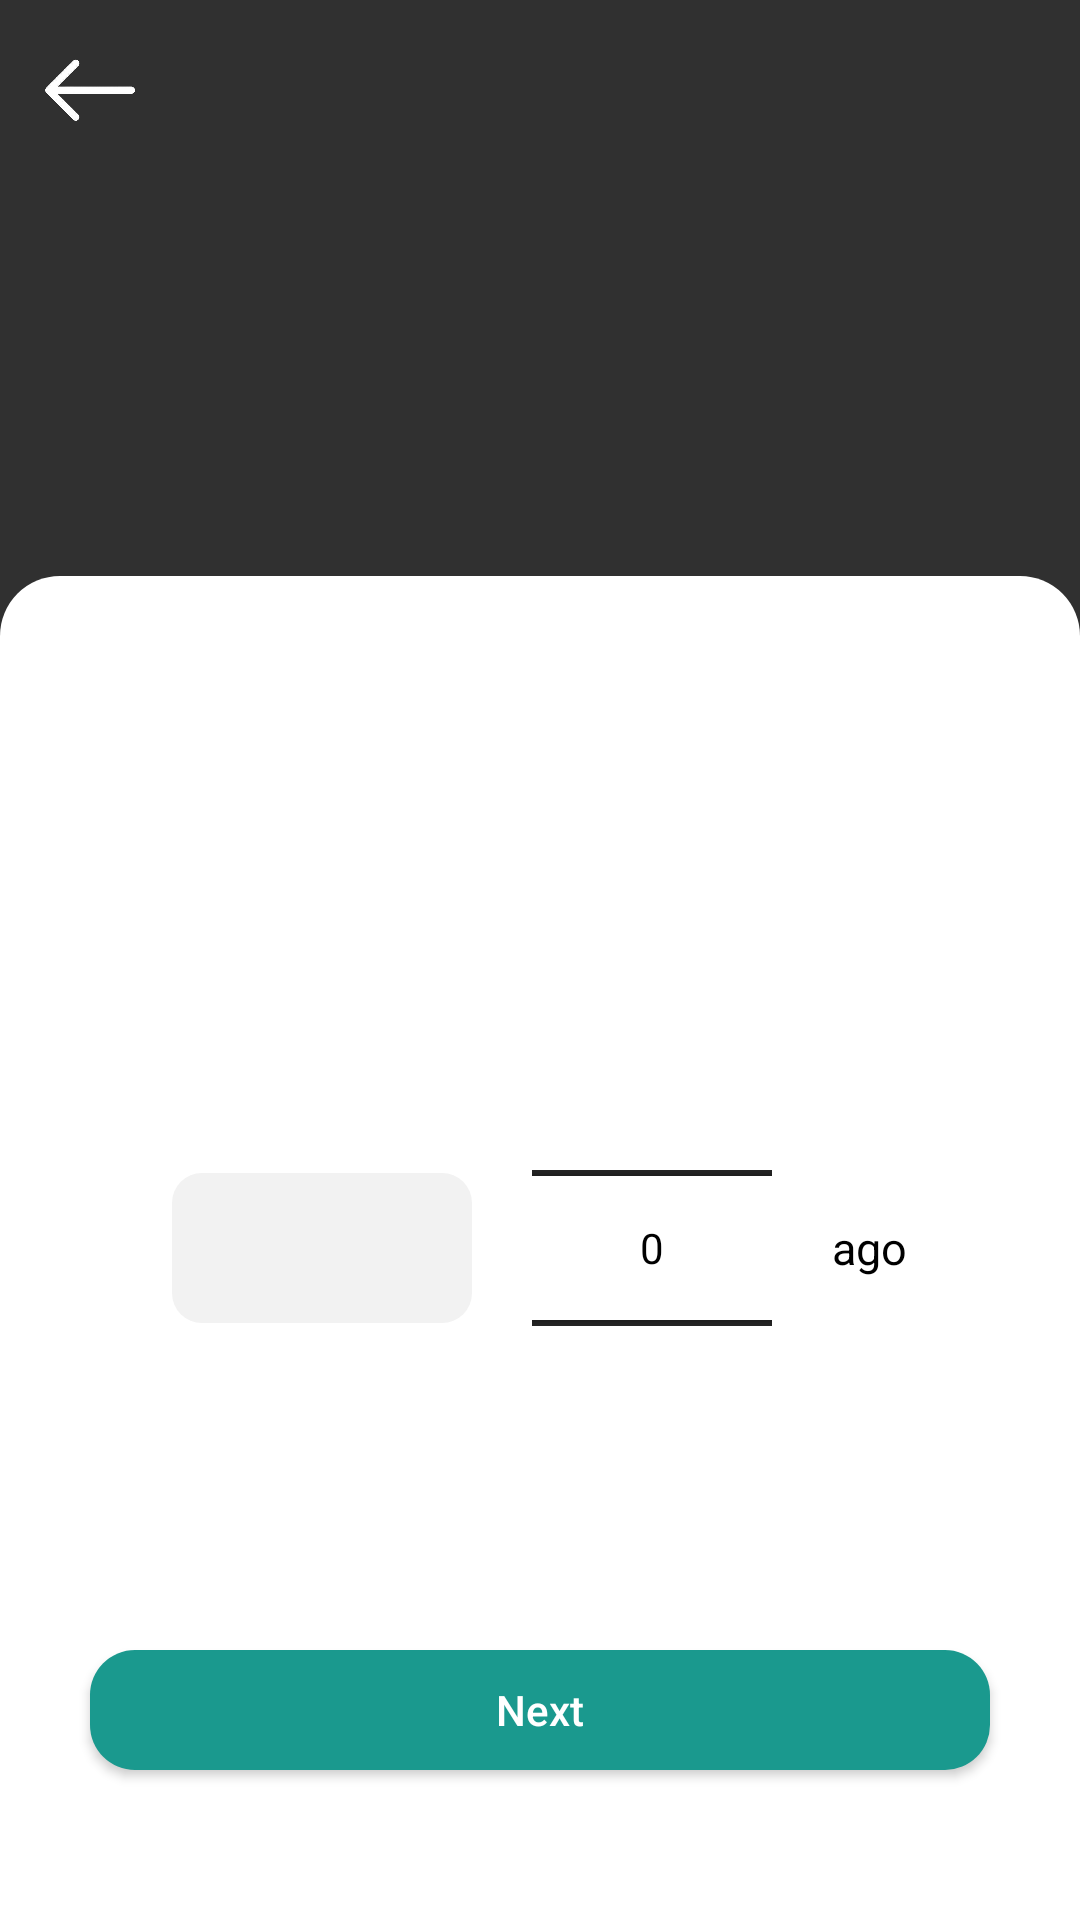

Icons on this 1080px x 1920px Android screen, each with its box as (x1, y1, x2, y2):
back: (45, 59, 135, 121)
